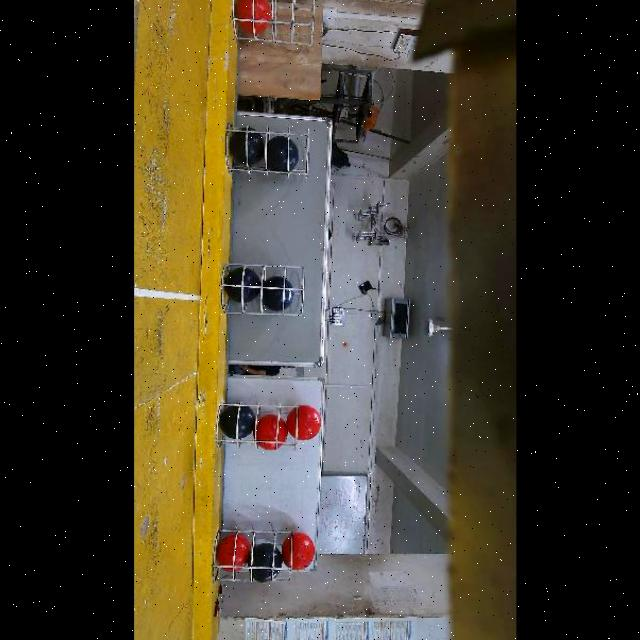P: (227, 125, 264, 165), (247, 543, 281, 583), (223, 269, 260, 305), (218, 406, 254, 439), (266, 136, 297, 172), (262, 276, 293, 311)
R: (215, 533, 250, 572), (280, 532, 313, 571), (234, 0, 271, 34), (285, 405, 320, 440), (255, 415, 287, 450)
S: (215, 381, 298, 451), (228, 116, 310, 184), (207, 527, 293, 589), (221, 260, 309, 320), (226, 0, 318, 56)
